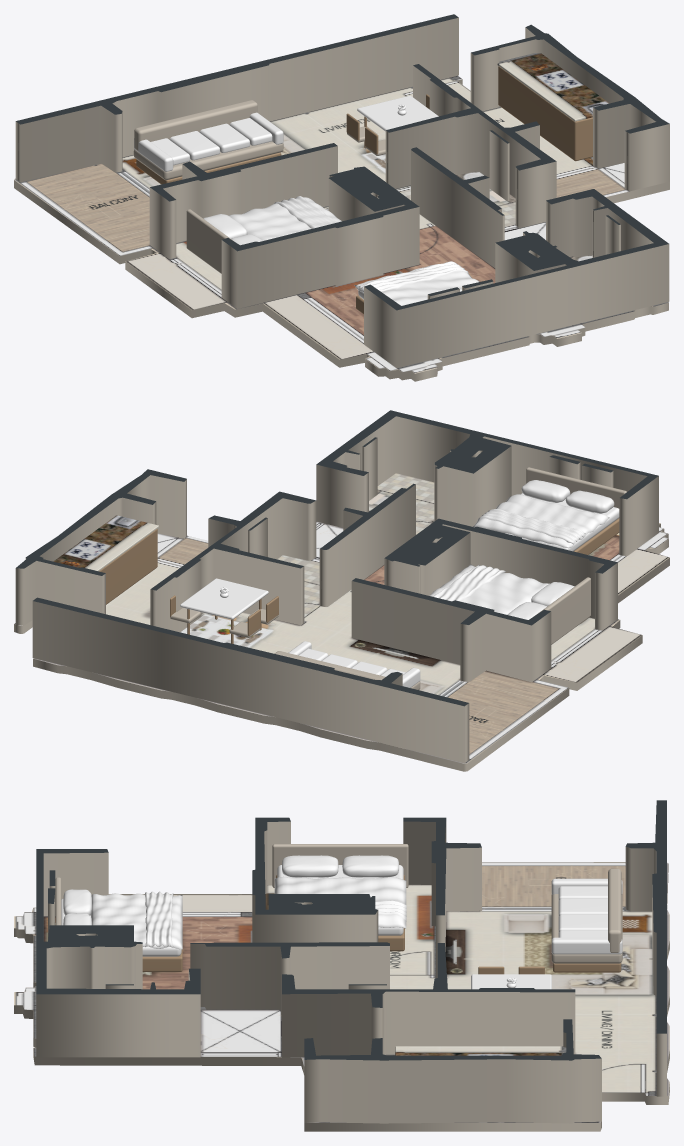
3 renders of one model, top to bottom at view 1: azimuth 30°, elevation 25°; view 2: azimuth 150°, elevation 25°; view 3: azimuth 270°, elevation 25°, orthographic. The views are drawn at different scales.
Visible parts, largest first — view 1: Partition walls, Apartment floor, Kitchen cabinets, Stone worktop, Sofa back, Draped bed linen.002, Upholstered sofa frame, Draped bed linen, Marble dining top, Upholstered headboard.001, Draped bed linen.001, Draped bed linen.003 (+6 smaller); view 2: Partition walls, Apartment floor, Draped bed linen, Stone worktop, Draped bed linen.002, Kitchen cabinets, Marble dining top, Upholstered headboard.001, Draped bed linen.001, Upholstered headboard, Draped bed linen.003, Tailored pillow (+5 smaller); view 3: Partition walls, Apartment floor, Draped bed linen.002, Draped bed linen, Upholstered headboard.001, Stone worktop, Draped bed linen.001, Tailored pillow.002, Tailored pillow.003, Upholstered sofa frame, Sofa back, Padded armrest.001 (+9 smaller).
Boxes of the visible parts, x1,y1,x2,y2 form: Partition walls: (15,14,669,368); Apartment floor: (14,75,669,381); Kitchen cabinets: (498,66,592,161); Stone worktop: (497,53,609,121); Sofa back: (134,100,257,150); Draped bed linen.002: (229,197,341,240); Upholstered sofa frame: (133,141,283,180); Draped bed linen: (354,262,479,305); Marble dining top: (357,95,438,131); Upholstered headboard.001: (186,209,234,273); Draped bed linen.001: (358,261,468,292); Draped bed linen.003: (274,196,337,228); Partition walls: (15,410,658,763); Apartment floor: (14,473,669,771); Draped bed linen: (473,494,609,547); Stone worktop: (53,515,158,571); Draped bed linen.002: (429,564,549,614); Kitchen cabinets: (99,529,157,604); Marble dining top: (180,578,268,619); Upholstered headboard.001: (535,577,590,644); Draped bed linen.001: (477,509,585,544); Upholstered headboard: (526,467,626,508); Draped bed linen.003: (433,565,505,601); Tailored pillow: (565,490,614,513); Partition walls: (36,800,666,1123); Apartment floor: (14,862,669,1131); Draped bed linen.002: (274,876,406,928); Draped bed linen: (91,893,182,949); Upholstered headboard.001: (272,844,408,887); Stone worktop: (395,1046,566,1055); Draped bed linen.001: (145,891,173,947); Tailored pillow.002: (282,855,338,877); Tailored pillow.003: (342,855,398,877); Upholstered sofa frame: (551,894,622,963); Sofa back: (608,868,621,952); Padded armrest.001: (551,937,622,954).
Size of the model in its own units: 10.15 by 1.3 by 10.76.
Materials: 9 (1 with a texture image).
